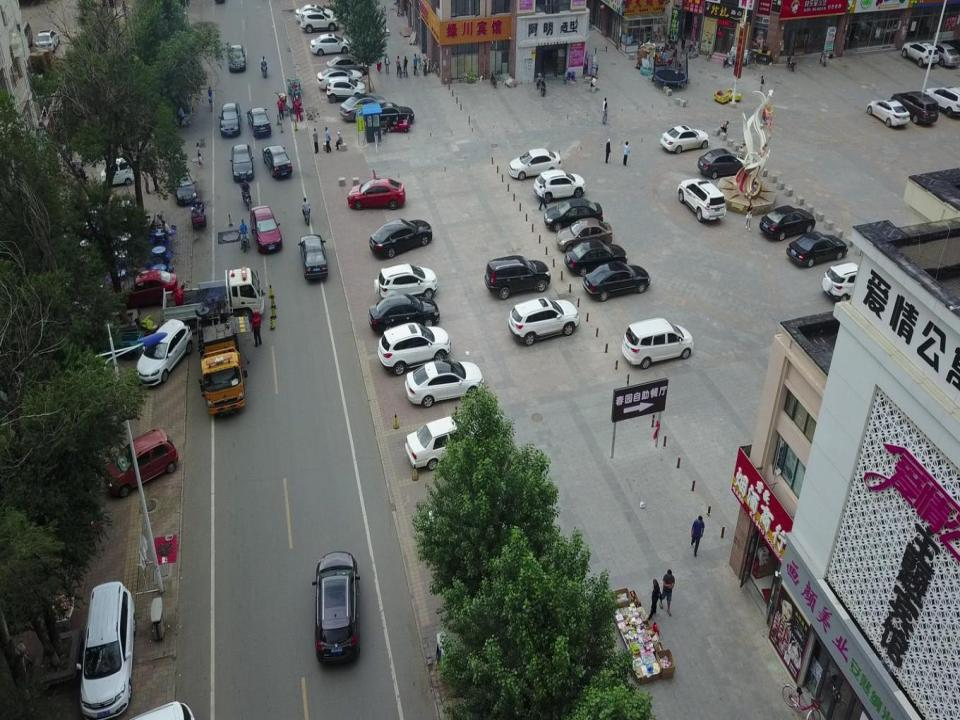car: (76, 581, 134, 719), (404, 412, 502, 472), (313, 550, 361, 666), (103, 426, 178, 498), (376, 321, 451, 376), (135, 318, 193, 389), (621, 316, 693, 371), (404, 358, 483, 408), (508, 296, 580, 346), (484, 253, 550, 301), (110, 268, 177, 312), (368, 295, 439, 335), (368, 217, 433, 260), (582, 261, 651, 301), (374, 264, 438, 303), (562, 238, 627, 276), (786, 230, 848, 267), (678, 177, 727, 223), (822, 261, 876, 302), (556, 217, 613, 255), (543, 196, 603, 232), (759, 204, 815, 240), (346, 178, 406, 210), (508, 147, 561, 181), (533, 169, 587, 201), (697, 147, 750, 179), (250, 203, 283, 253), (297, 234, 330, 280), (660, 124, 710, 154), (339, 92, 387, 122), (866, 98, 911, 128), (924, 84, 960, 118), (168, 166, 198, 204), (900, 40, 940, 68), (316, 67, 364, 90), (365, 102, 415, 124), (262, 145, 294, 179), (326, 77, 366, 103), (309, 33, 353, 56), (100, 156, 134, 185), (229, 143, 254, 182), (326, 54, 370, 76), (300, 10, 340, 33), (218, 101, 242, 137), (246, 106, 272, 138), (926, 41, 959, 66), (295, 3, 335, 22), (35, 29, 60, 54), (228, 44, 246, 71)
truck: (161, 268, 265, 332), (196, 311, 252, 417)
van: (890, 90, 939, 126)
